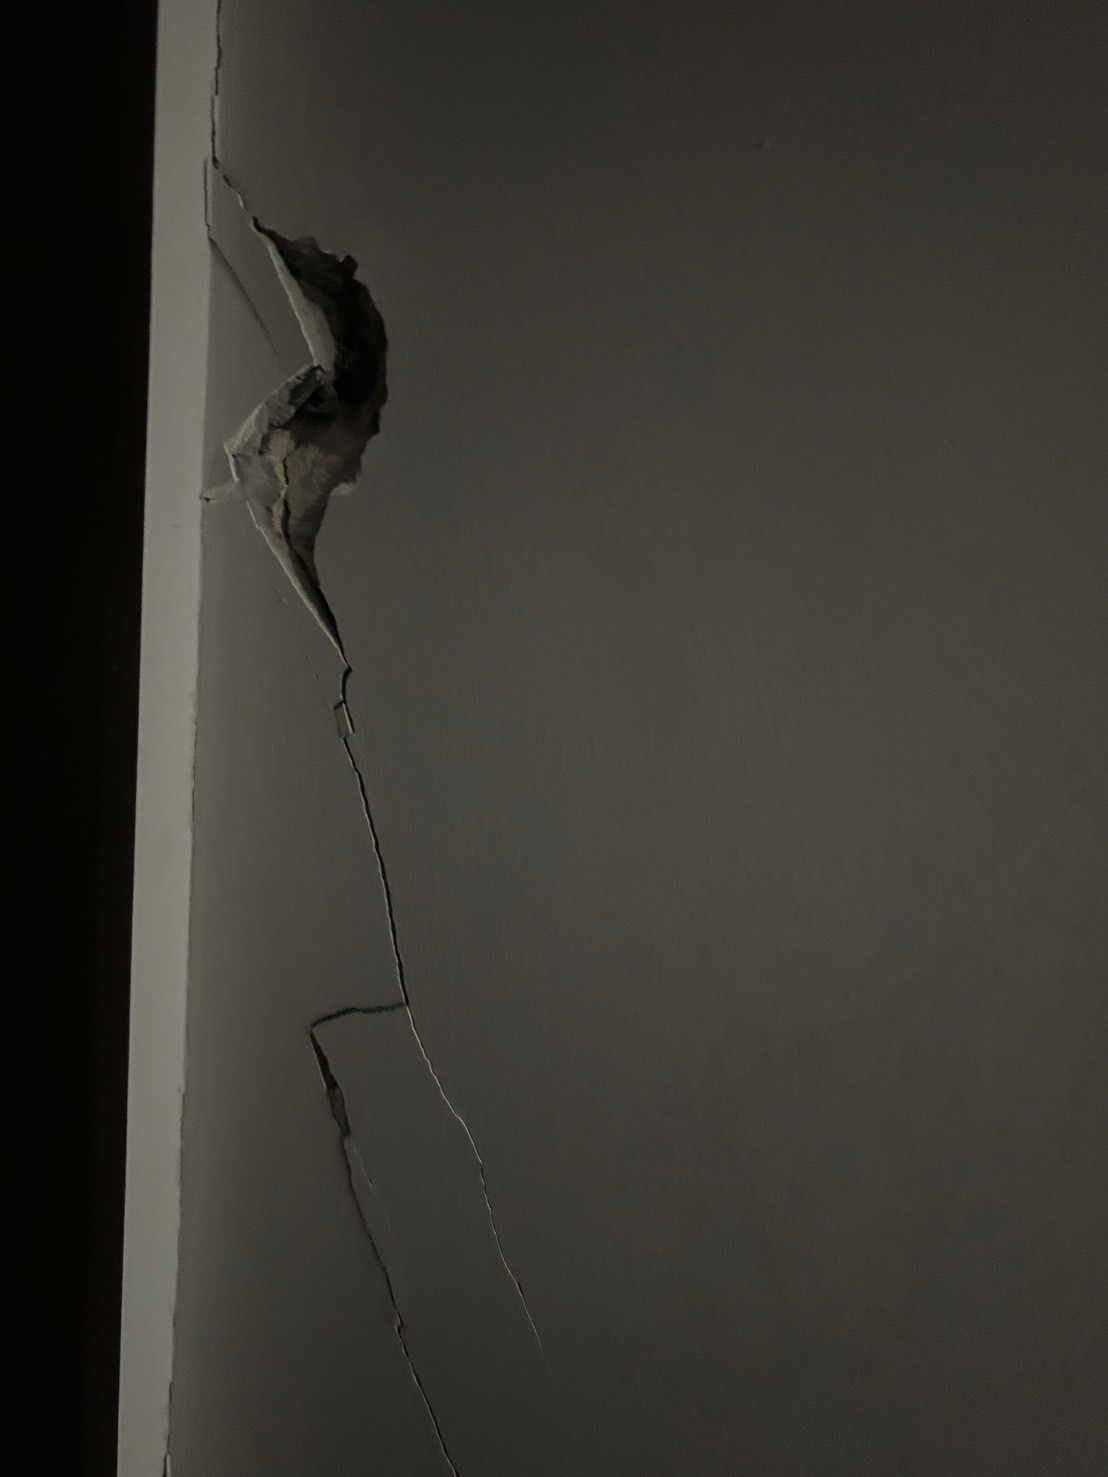Medium: (193, 165, 591, 1370)
